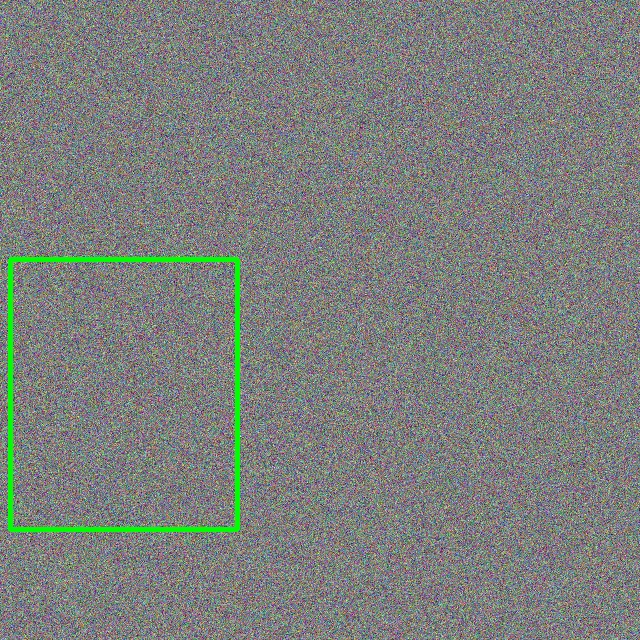base: (10, 259, 237, 529)
